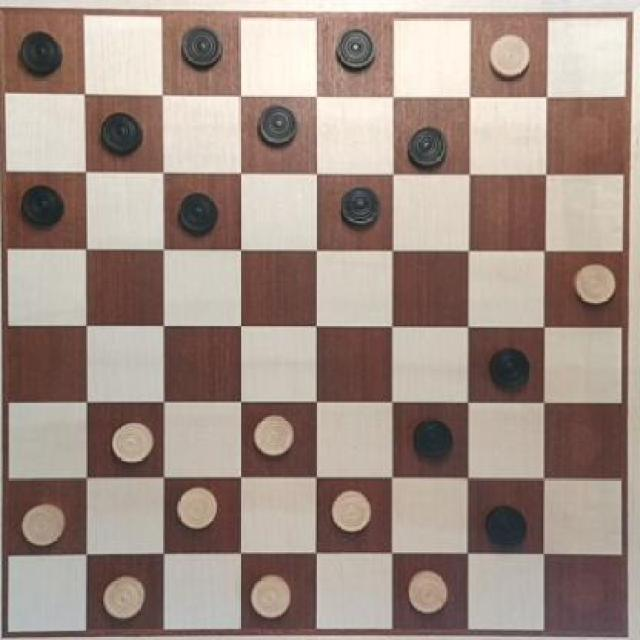BOARD: (2, 9, 631, 637)
black: (12, 177, 67, 229), (479, 500, 531, 550), (19, 27, 66, 80), (402, 120, 452, 168), (97, 108, 144, 158), (414, 415, 458, 467), (338, 181, 381, 233), (334, 24, 378, 74), (178, 186, 219, 236), (177, 25, 222, 70), (253, 104, 296, 147), (487, 345, 529, 388)
white: (98, 568, 149, 624), (402, 564, 452, 620), (485, 28, 535, 82), (17, 500, 68, 550), (325, 485, 375, 536), (572, 256, 620, 309), (108, 417, 159, 466), (248, 568, 290, 622), (252, 412, 298, 456), (174, 484, 218, 530)
